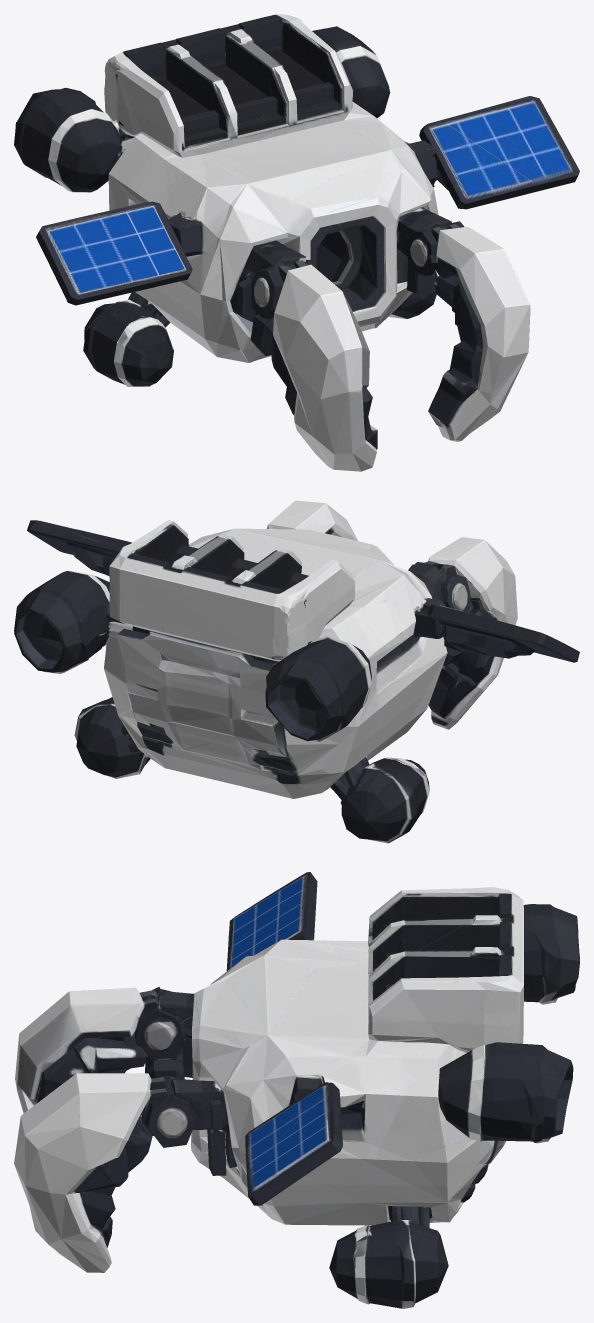
The model's file is collector-split.glb.
3 renders of one model, top to bottom at view 1: azimuth 30°, elevation 25°; view 2: azimuth 150°, elevation 25°; view 3: azimuth 270°, elevation 25°, orthographic. The views are drawn at different scales.
Visible parts, largest first — view 1: model_part2, model_part3, model_part4, model_part6, model_part0, model_part1, model_part5; view 2: model_part2, model_part1, model_part3, model_part5, model_part0, model_part6, model_part4; view 3: model_part2, model_part4, model_part3, model_part5, model_part6, model_part1, model_part0.
Part boxes in pixels (<box>): model_part2: <box>83,14,438,386</box>; model_part3: <box>237,246,377,471</box>; model_part4: <box>396,207,530,441</box>; model_part6: <box>419,96,579,209</box>; model_part0: <box>36,201,192,305</box>; model_part1: <box>14,66,134,192</box>; model_part5: <box>312,26,390,118</box>; model_part2: <box>74,520,447,843</box>; model_part1: <box>265,601,371,741</box>; model_part3: <box>408,537,517,729</box>; model_part5: <box>14,570,110,673</box>; model_part0: <box>414,600,579,662</box>; model_part6: <box>27,520,131,575</box>; model_part4: <box>266,500,357,540</box>; model_part2: <box>166,887,523,1308</box>; model_part4: <box>14,1073,228,1272</box>; model_part3: <box>15,987,193,1113</box>; model_part5: <box>438,1042,573,1143</box>; model_part6: <box>245,1082,342,1205</box>; model_part1: <box>523,904,579,1004</box>; model_part0: <box>226,872,317,970</box>.
Size of the model in its own units: 2 by 1.04 by 1.74.
Materials: 1 (1 with a texture image).
